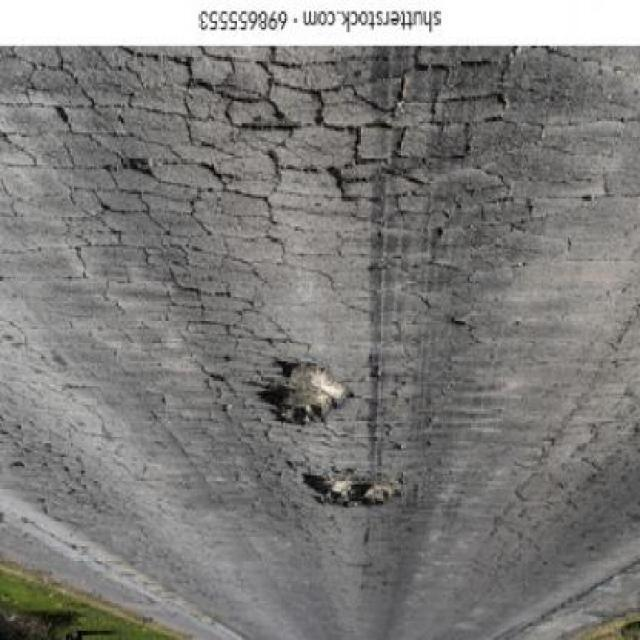Pothole: (257, 356, 357, 428), (300, 466, 404, 512)
